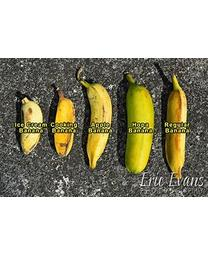banana: (77, 78, 114, 173), (124, 73, 154, 174), (165, 72, 189, 181), (53, 85, 77, 158), (17, 96, 44, 154)
